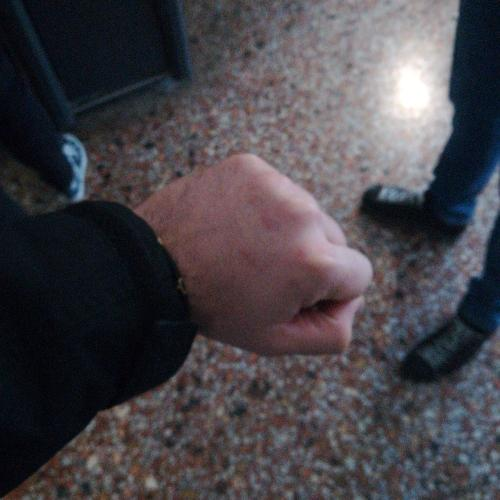rock: (120, 145, 378, 370)
